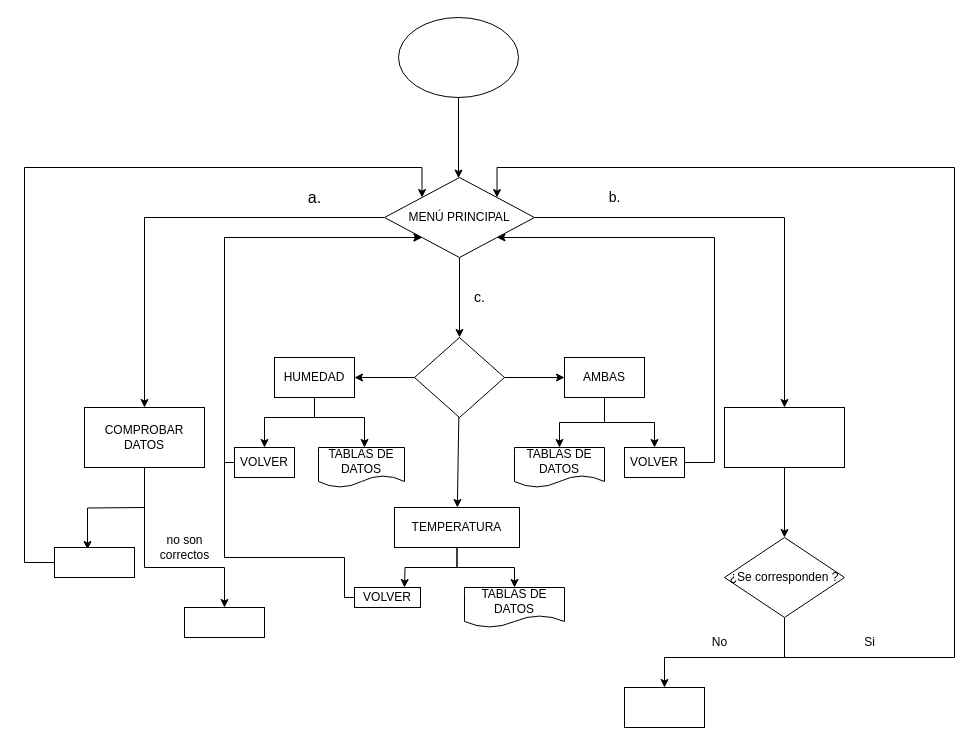
Image size: 980x745. Some labels were removed from this diagram. Here are the shapes that lost their labels. From the top down, the box of each, then its label:
(398, 16, 518, 98): INICIO
(414, 336, 504, 418): MEDIR
(724, 406, 844, 468): INTERVALOS
(54, 546, 134, 578): CORRECTOS
(184, 606, 264, 638): SALIR
(624, 686, 704, 728): BUSCAR SOLUCIÓN
